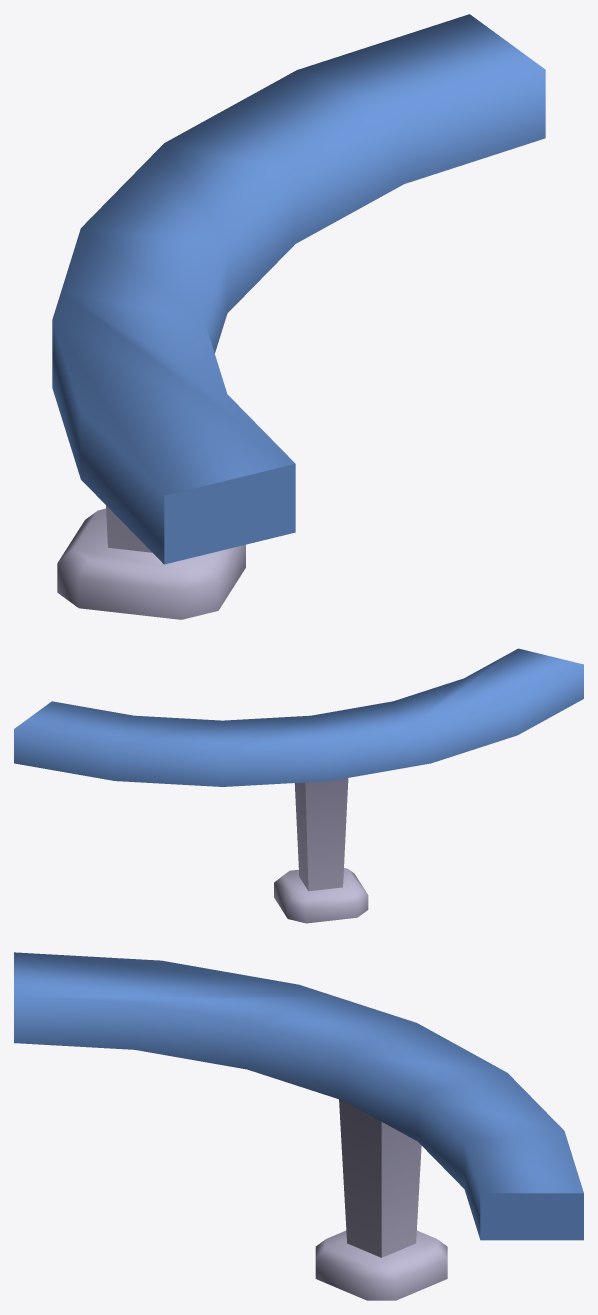
Rendered from rail-curve.fbx.
3 views of the same model, one above another, from view 1: azimuth 30°, elevation 25°; view 2: azimuth 150°, elevation 25°; view 3: azimuth 270°, elevation 25° (orthographic). The views are drawn at different scales.
Parts seen in each view (by area): view 1: rail-curve; view 2: rail-curve; view 3: rail-curve.
Part boxes in pixels (<box>): rail-curve: <box>52,14,545,619</box>; rail-curve: <box>14,648,583,923</box>; rail-curve: <box>14,952,583,1300</box>.
Size of the model in its own units: 55 by 25 by 55.
Materials: 1 (1 with a texture image).
